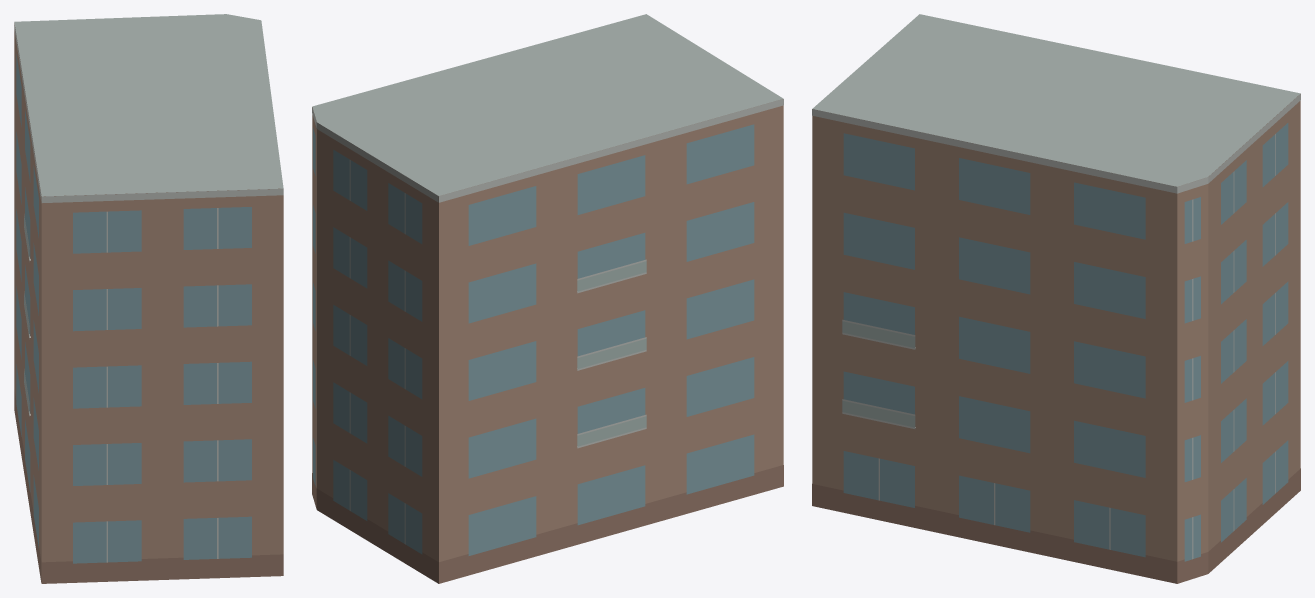
The model's file is survey-upis-33028827.glb.
3 renders of one model, left to right at view 1: azimuth 30°, elevation 25°; view 2: azimuth 150°, elevation 25°; view 3: azimuth 270°, elevation 25°, orthographic. The views are drawn at different scales.
Visible parts, largest first — view 1: survey-upis-33028827.tmp; view 2: survey-upis-33028827.tmp; view 3: survey-upis-33028827.tmp.
Boxes of the visible parts, left/top/right/bottom form: survey-upis-33028827.tmp: left=14, top=14, right=283, bottom=583; survey-upis-33028827.tmp: left=312, top=14, right=783, bottom=583; survey-upis-33028827.tmp: left=812, top=14, right=1300, bottom=583.
Size of the model in its own units: 13.26 by 14.2 by 15.85.
